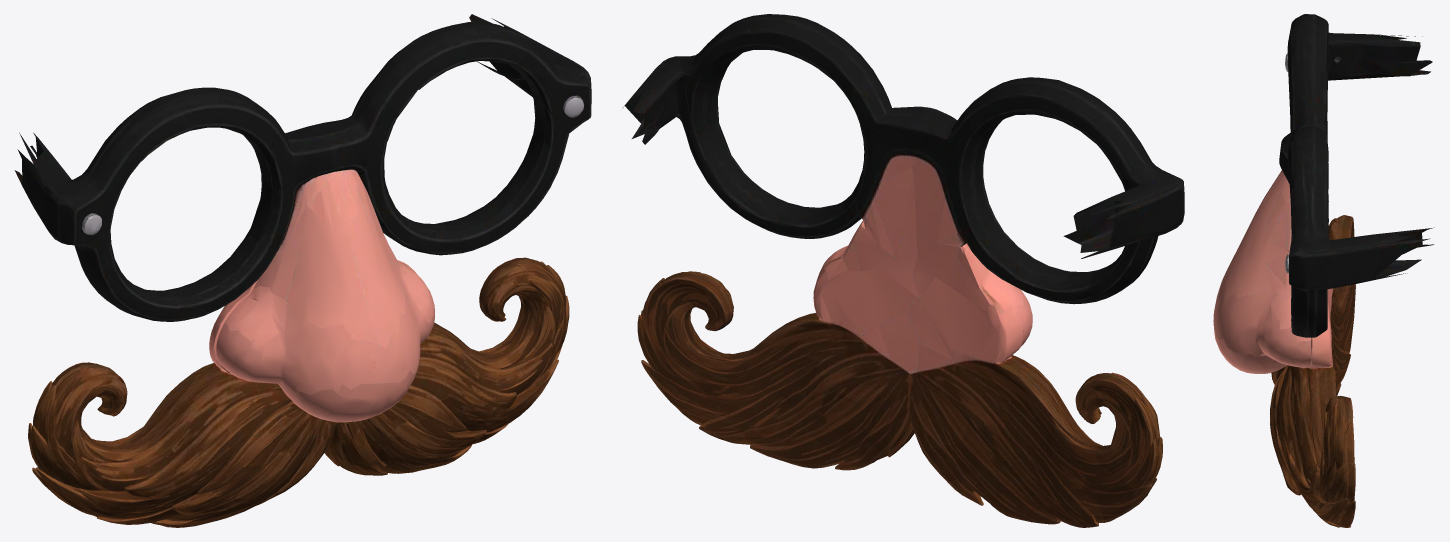
Rendered from nose_glasses.glb.
3 renders of one model, left to right at view 1: azimuth 30°, elevation 25°; view 2: azimuth 150°, elevation 25°; view 3: azimuth 270°, elevation 25°, orthographic. The views are drawn at different scales.
Visible parts, largest first — view 1: Mesh_0; view 2: Mesh_0; view 3: Mesh_0.
Part boxes in pixels (box(x1,y1,x2,y2)): Mesh_0: box(14, 14, 591, 527); Mesh_0: box(622, 14, 1184, 527); Mesh_0: box(1213, 14, 1434, 527).
Bounding box in the file's own units: 1 × 0.7928 × 0.4179.
Materials: 1 (1 with a texture image).
